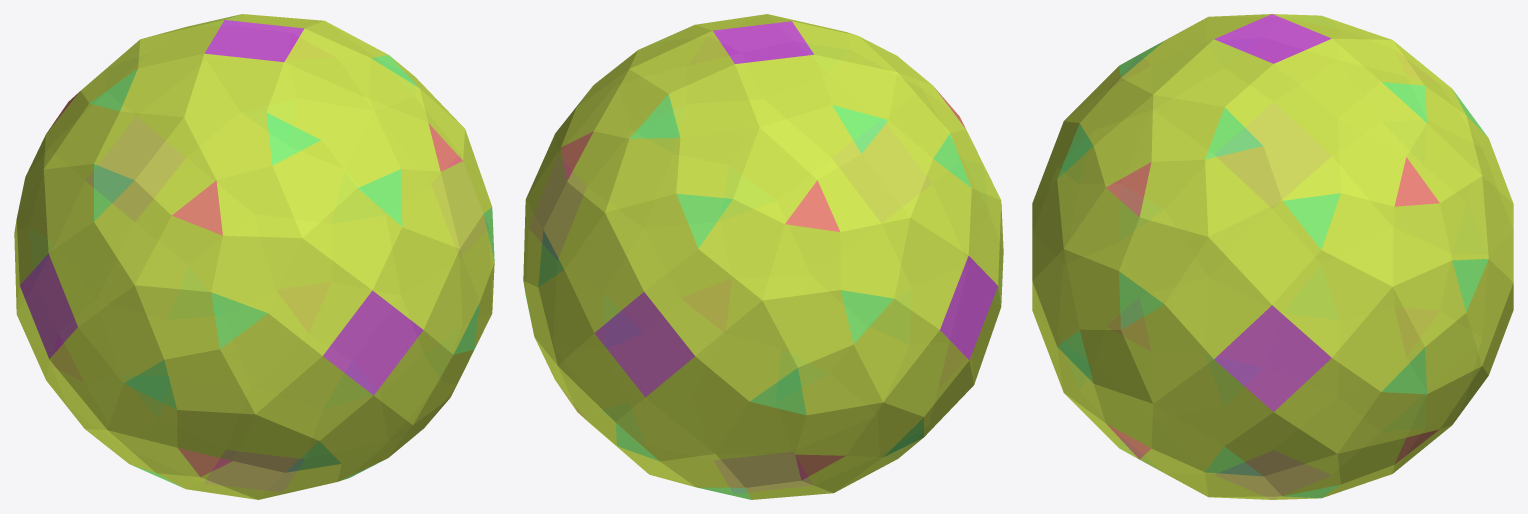
Rendered from PropellorSnubCube.obj.
The picture shows the model from 3 angles, left to right: view 1: azimuth 30°, elevation 25°; view 2: azimuth 150°, elevation 25°; view 3: azimuth 270°, elevation 25°; orthographic projection.
Bounding box in the file's own units: 1.97 × 1.97 × 1.97.
